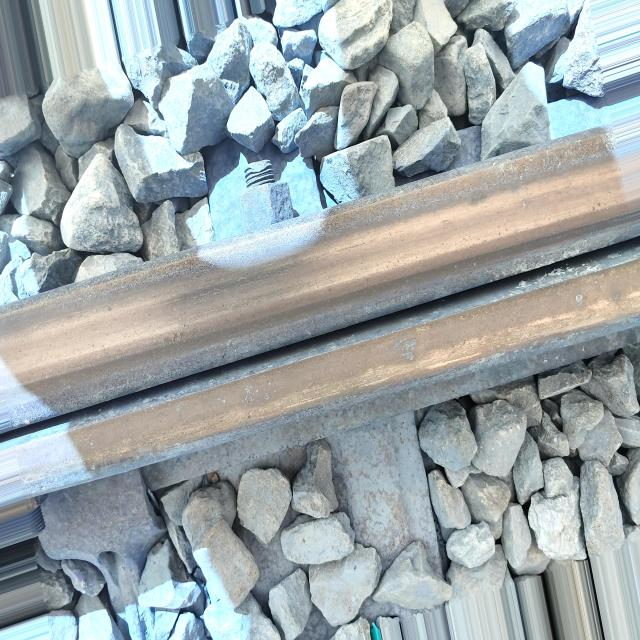non-defective: (1, 121, 638, 506)
